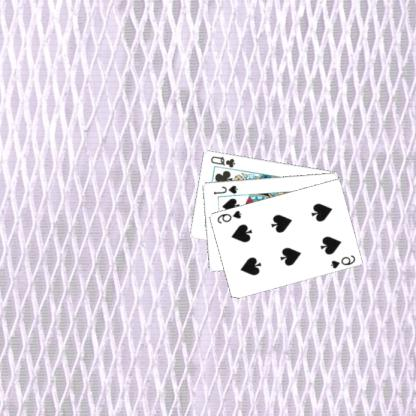6S: (216, 207, 245, 225), (330, 252, 358, 270)
JS: (213, 182, 241, 196)
QC: (210, 153, 238, 168)
